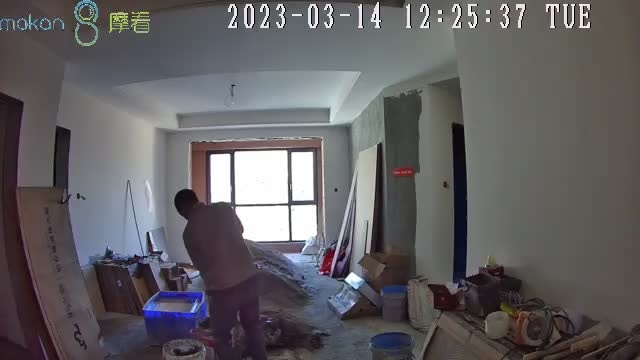people: (173, 188, 266, 360)
window: (207, 150, 320, 244)
